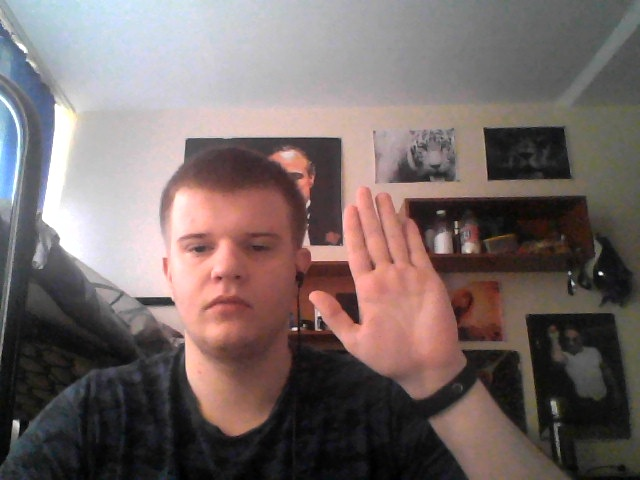hello: (305, 182, 460, 378)
